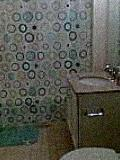Lavamanos: (70, 61, 120, 88)
Sanitario: (53, 141, 120, 160)
